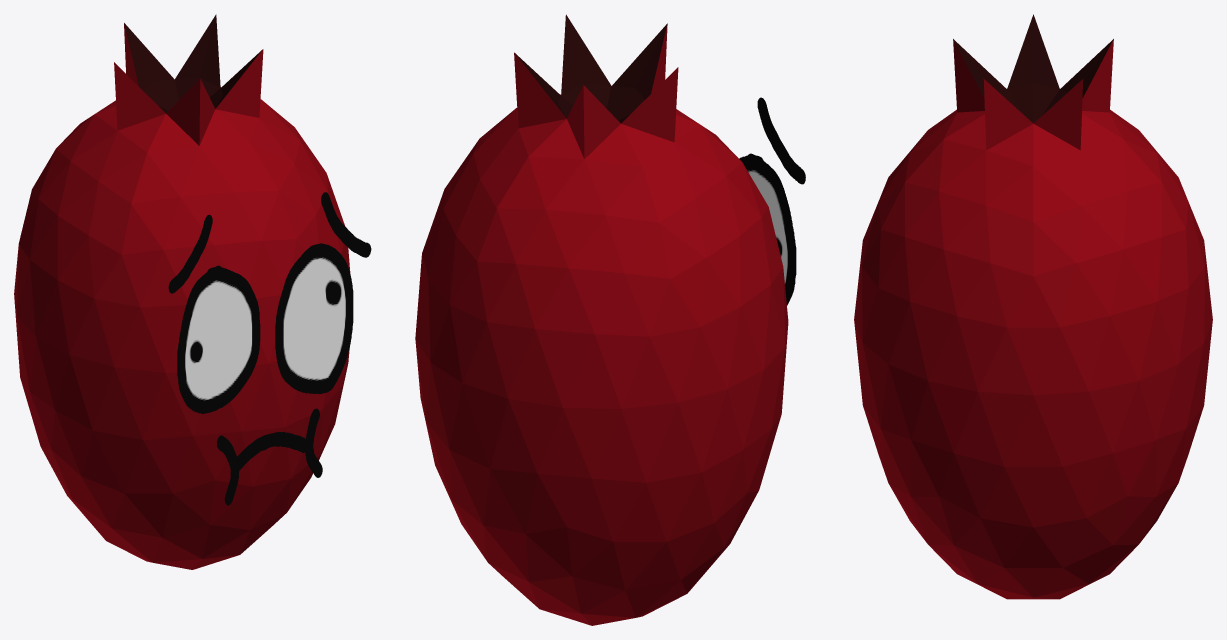
File: pomegranate_000002.obj
The picture shows the model from 3 angles, left to right: view 1: azimuth 30°, elevation 25°; view 2: azimuth 150°, elevation 25°; view 3: azimuth 270°, elevation 25°; orthographic projection. The views are drawn at different scales.
Parts seen in each view (by area): view 1: Icosphere, Plane; view 2: Icosphere, Plane; view 3: Icosphere.
Boxes of the visible parts, bbox=[...] form: Icosphere: bbox=[14, 14, 350, 569]; Plane: bbox=[168, 192, 371, 505]; Icosphere: bbox=[415, 14, 788, 625]; Plane: bbox=[739, 97, 805, 305]; Icosphere: bbox=[854, 14, 1212, 599].
Size of the model in its own units: 1.58 by 2.64 by 1.58.
